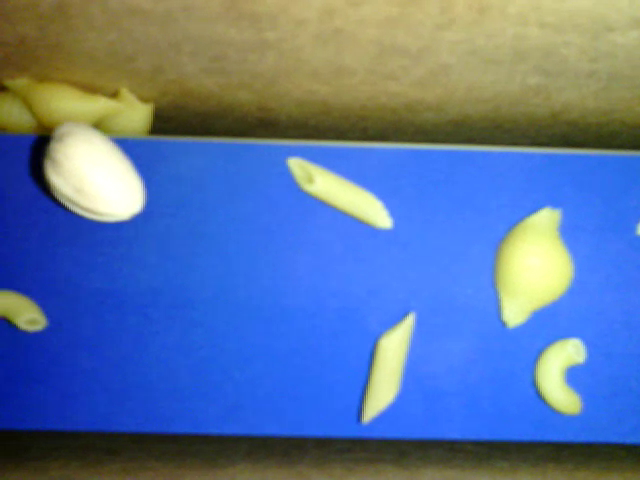elbow: (533, 336, 585, 416), (1, 284, 54, 335)
penne: (285, 155, 396, 232), (357, 311, 420, 423)
shell: (490, 202, 578, 333), (1, 71, 131, 134), (103, 85, 153, 136), (1, 92, 49, 134)
